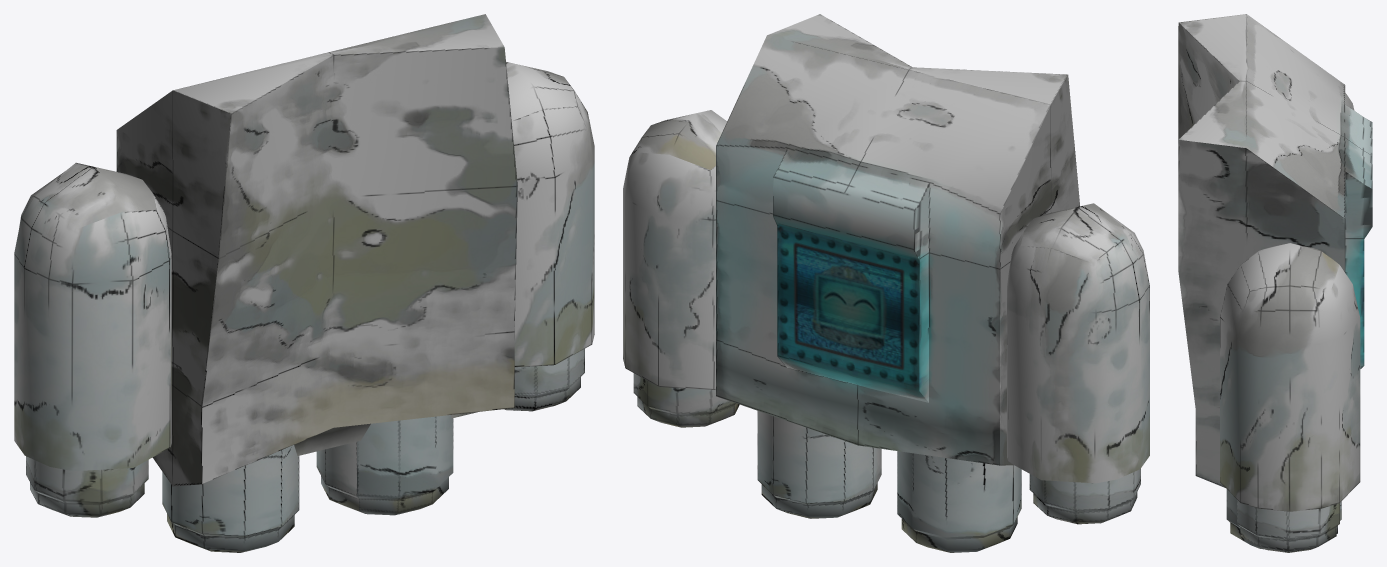
The model's file is Jetpack.FBX.
3 renders of one model, left to right at view 1: azimuth 30°, elevation 25°; view 2: azimuth 150°, elevation 25°; view 3: azimuth 270°, elevation 25°, orthographic. The views are drawn at different scales.
Visible parts, largest first — view 1: Box025; view 2: Box025; view 3: Box025.
Boxes of the visible parts, x1,y1,x2,y2 form: Box025: [14, 14, 594, 552]; Box025: [623, 14, 1149, 552]; Box025: [1178, 14, 1372, 552].
Size of the model in its own units: 255 by 208 by 87.32.
